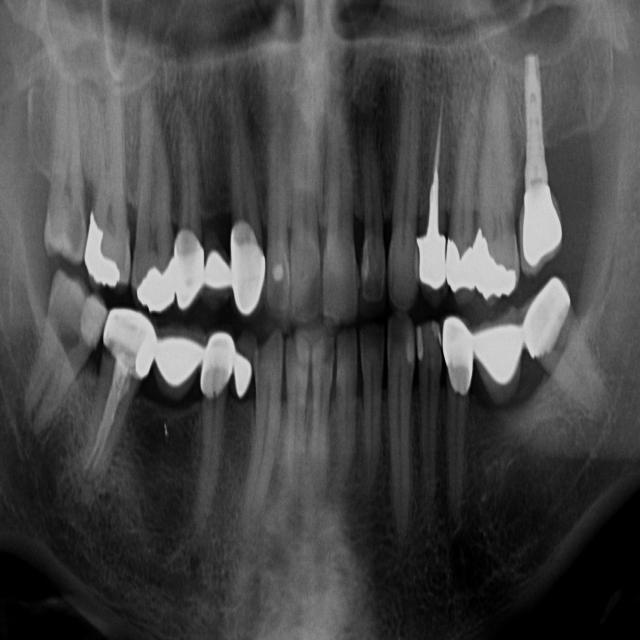dolgu: (453, 233, 522, 296), (83, 217, 132, 282), (135, 253, 181, 308), (224, 340, 256, 404), (205, 243, 237, 305), (270, 256, 294, 288)
implant: (514, 36, 574, 266)
kanal-tedavisi: (409, 88, 455, 254), (89, 359, 141, 493)
kaplama: (522, 275, 568, 358), (232, 220, 268, 310), (197, 329, 233, 404), (442, 319, 477, 396), (106, 309, 148, 371), (420, 233, 458, 298), (175, 233, 204, 310)
kopru: (472, 315, 525, 403), (159, 313, 201, 407)
